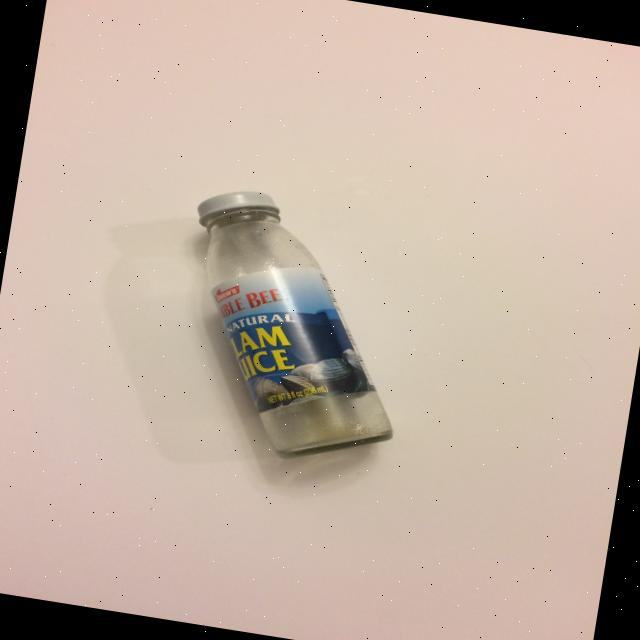glass: (160, 182, 428, 474)
